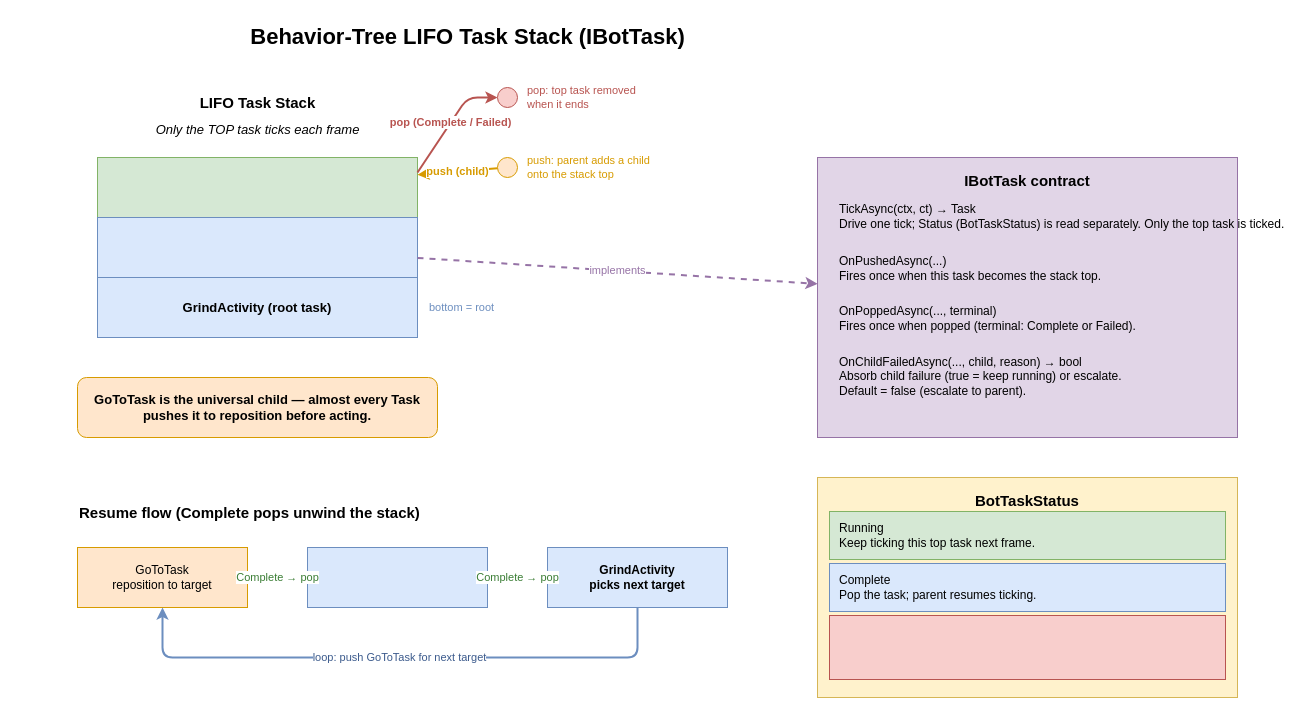
This 1301x715 diagram has some shape labels left out. The centre of each missing label's shape, as x and y in pixels:
"Failed Pop the task; OnChildFailedAsync on parent → absorb or escalate." goes at (x=1027, y=647).
"GoToTask(target) ← top, ticking" goes at (x=257, y=187).
"KillTargetTask" goes at (x=257, y=247).
"KillTargetTask resumes casts on target" goes at (x=397, y=577).
